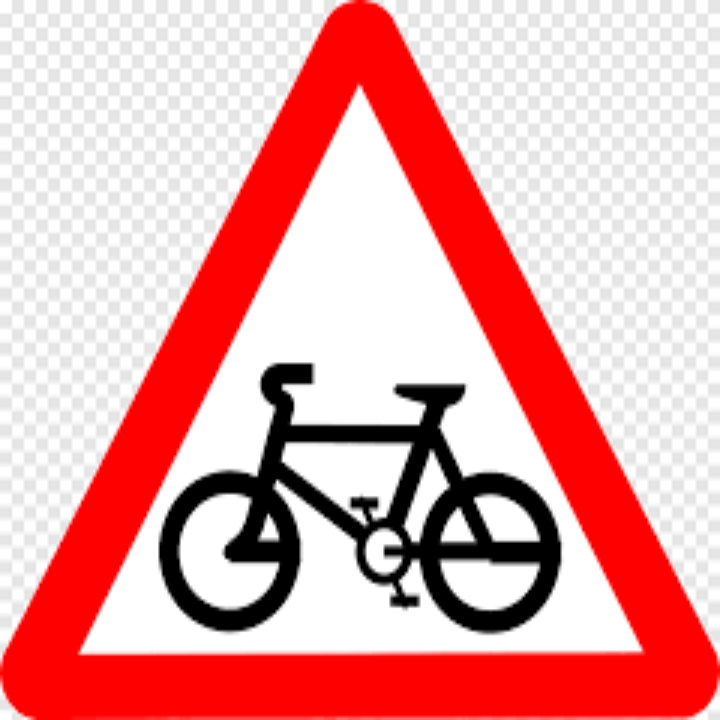bicycle: (154, 357, 565, 639)
